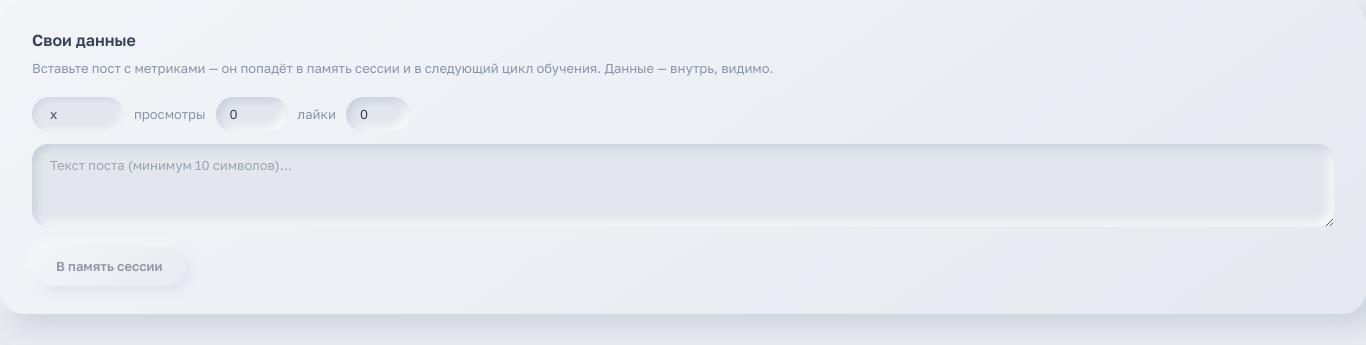
Test: DataIngestPanel › submits and shows the session-memory confirmation
This screenshot has width=1366, height=345.
Type "A long enough manual post text." into the text box with test id "ingest-text" at (683, 186), box top-left (32, 144), bottom-right (1334, 227)
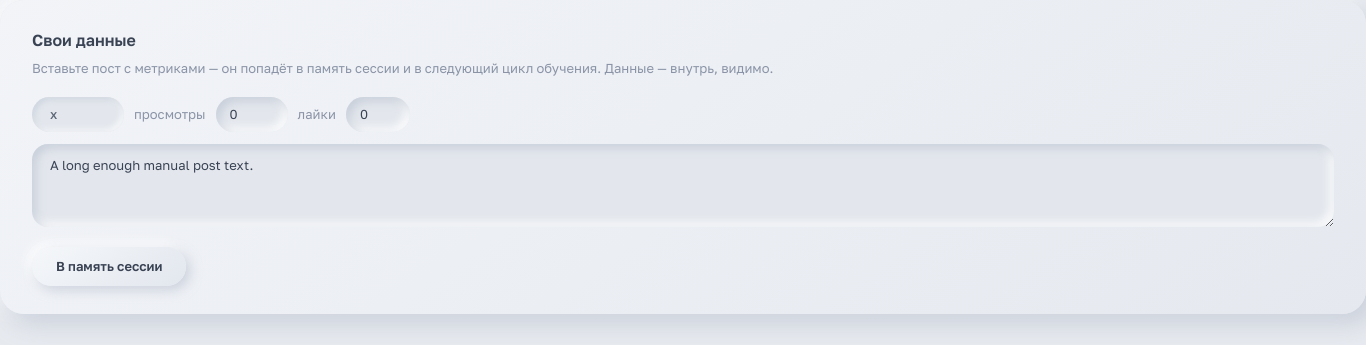
Click the button with test id "ingest-submit" at (109, 267), box top-left (32, 247), bottom-right (186, 286)
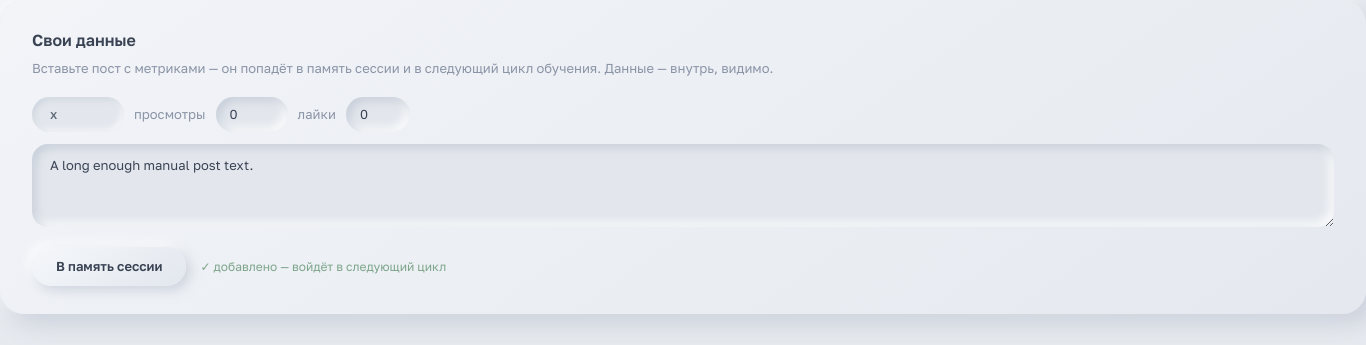
Check: the text "✓ добавлено — войдёт в следующий цикл" is shown, box top-left (200, 258), bottom-right (446, 274)
Check: the text with test id "ingest-success" shows "войдёт в следующий цикл", box top-left (214, 258), bottom-right (446, 274)
